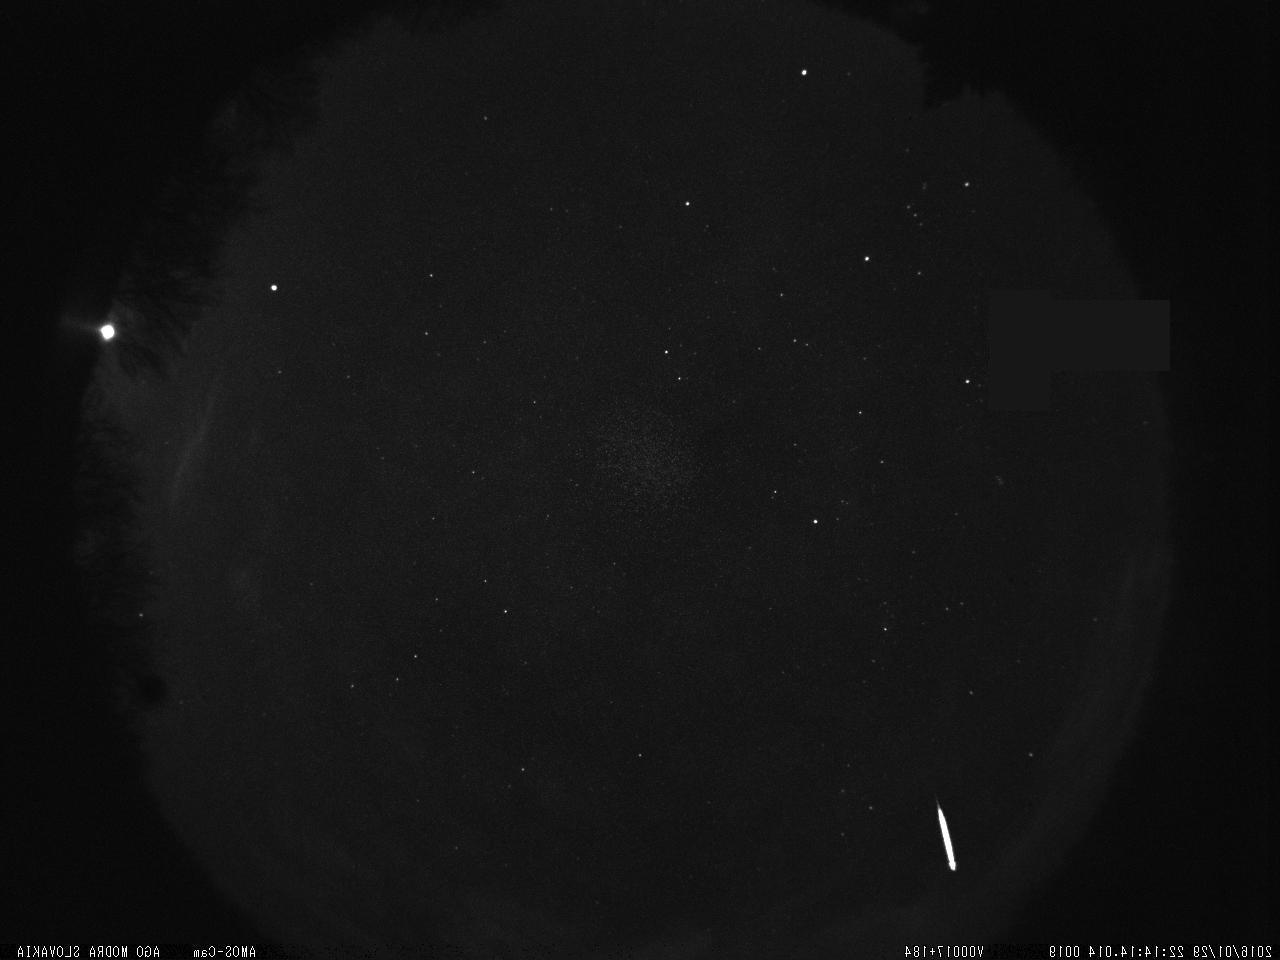meteor: (928, 793, 967, 879)
